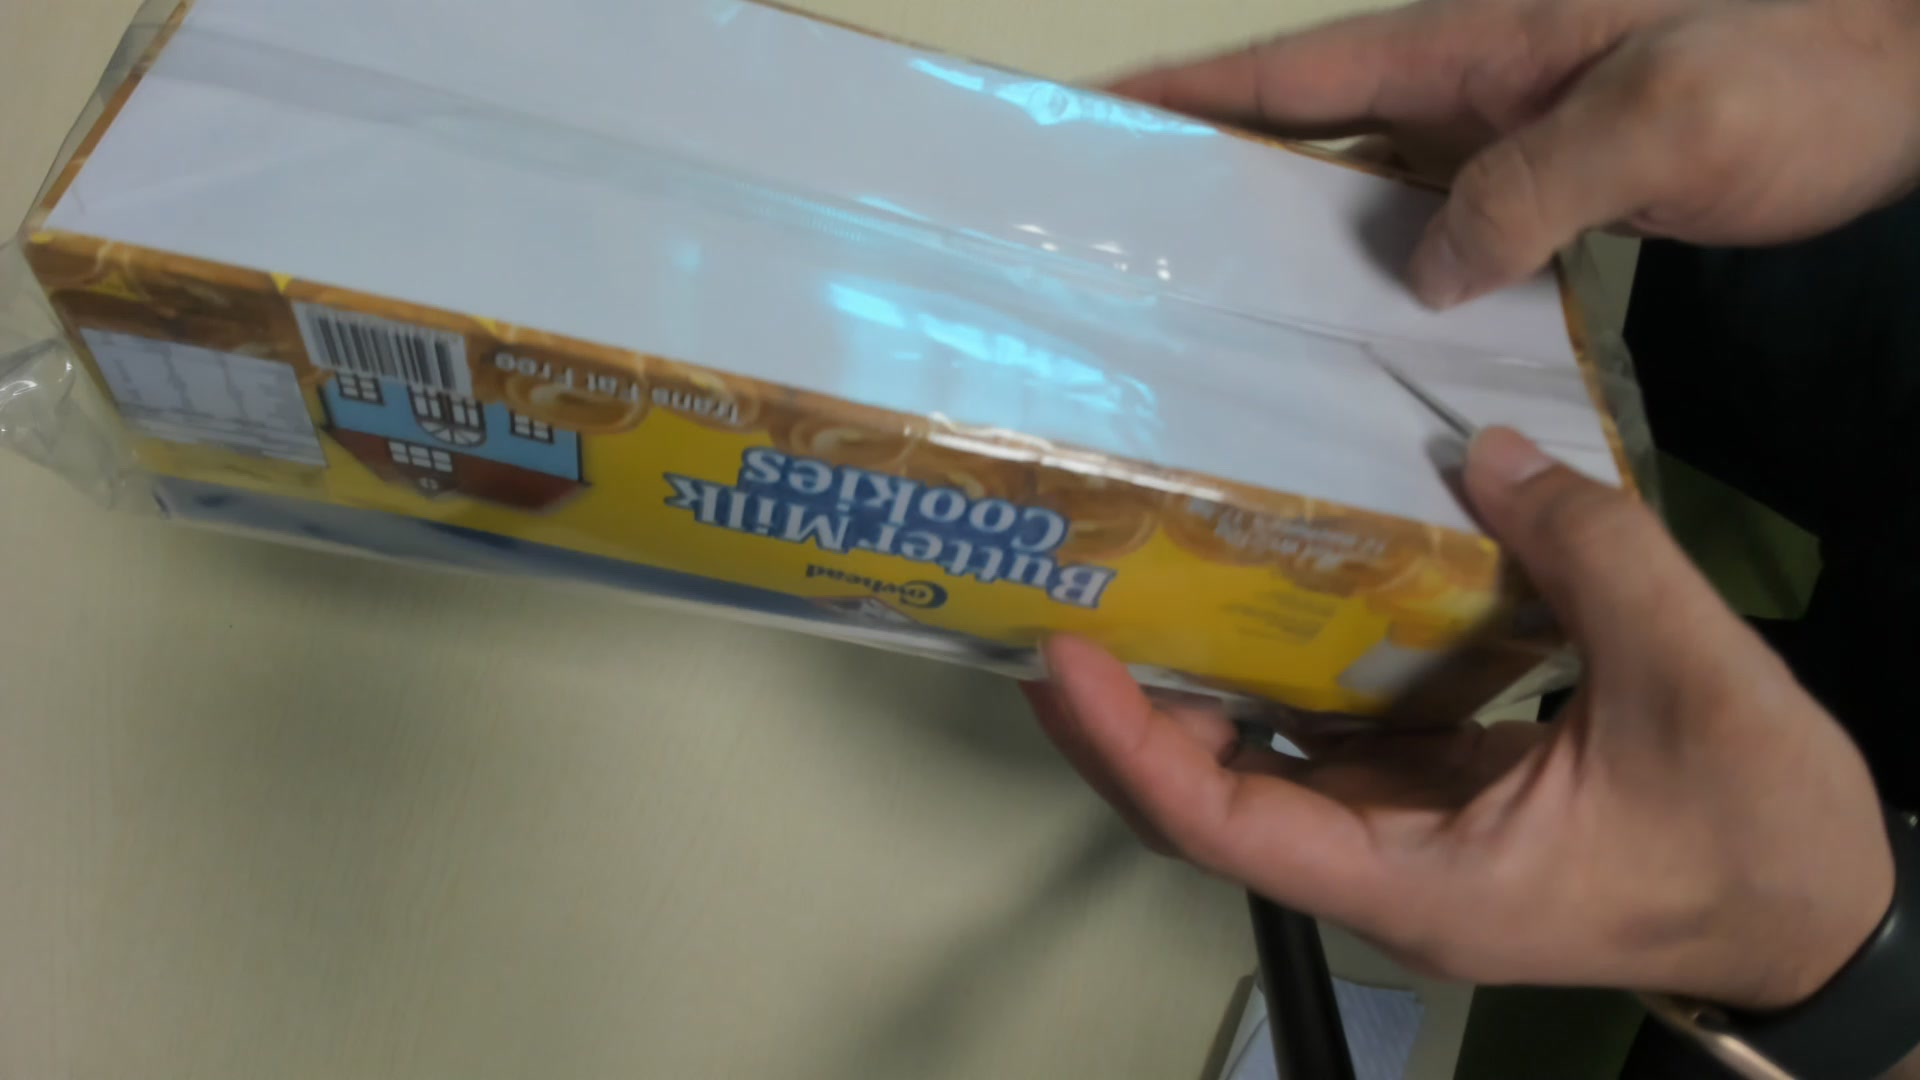SweetsChocolatesOthers_200-299g_Halal_Nonhealthy: (17, 13, 1640, 738)
